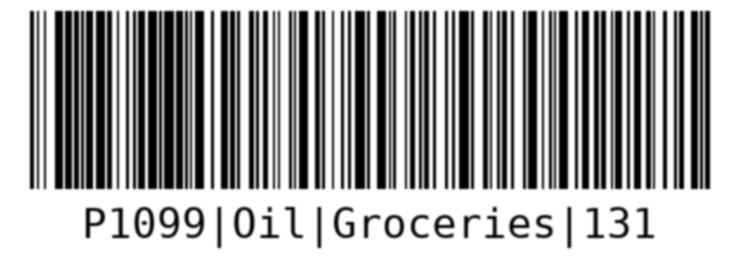milk: (22, 4, 717, 271)
